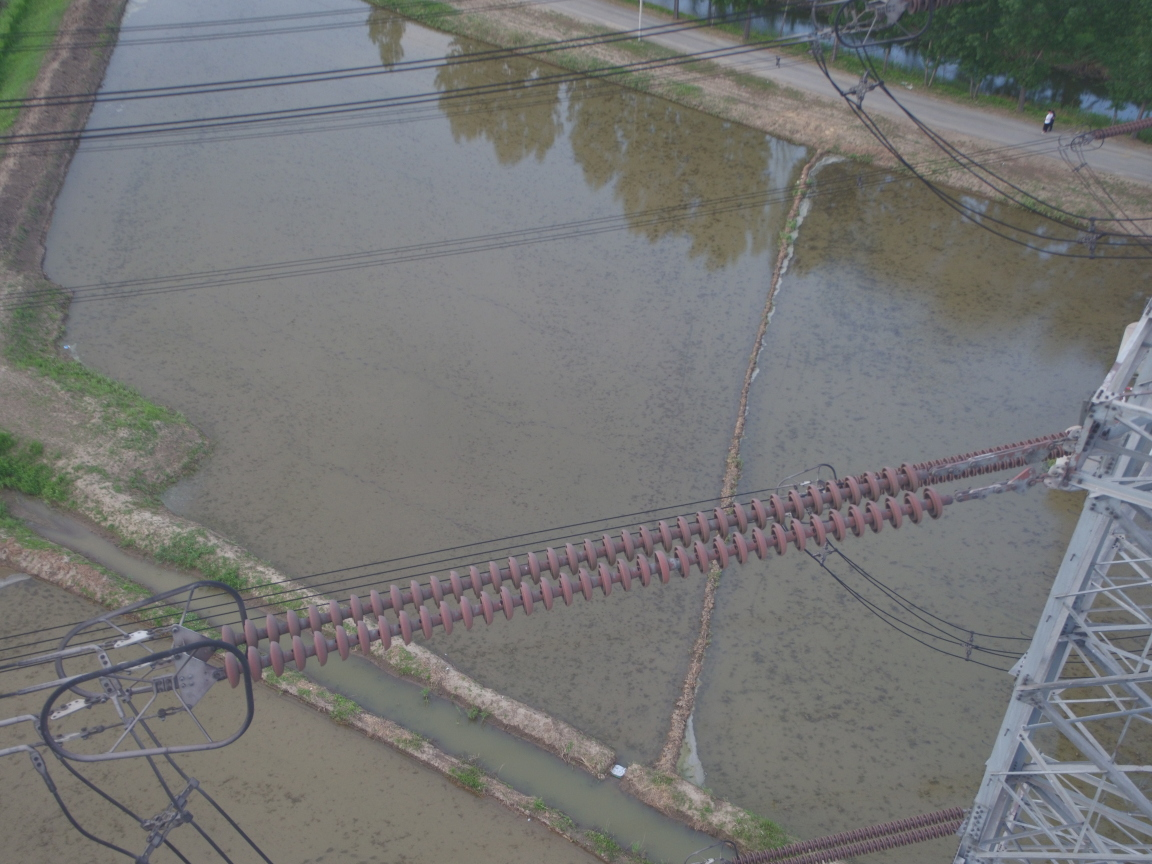insulator: (195, 460, 991, 694)
